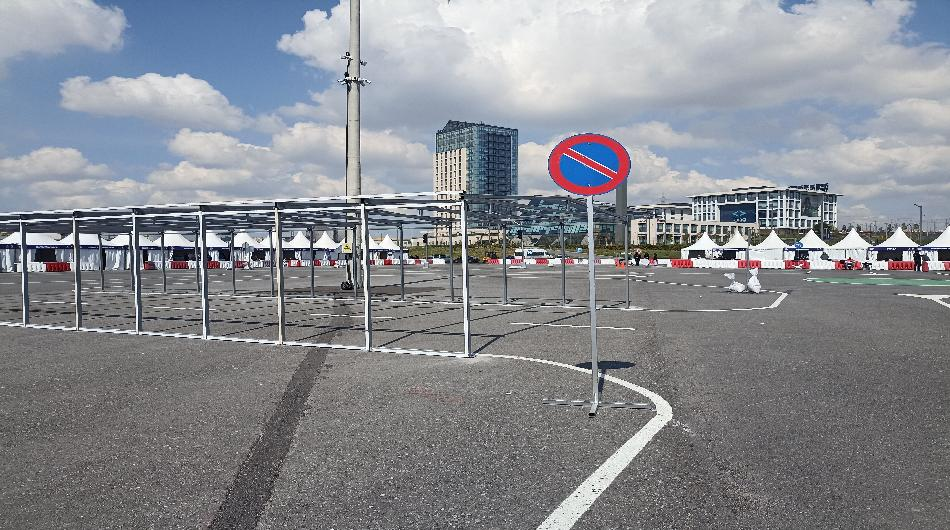park_yapilmaz_1: (550, 133, 633, 193)
